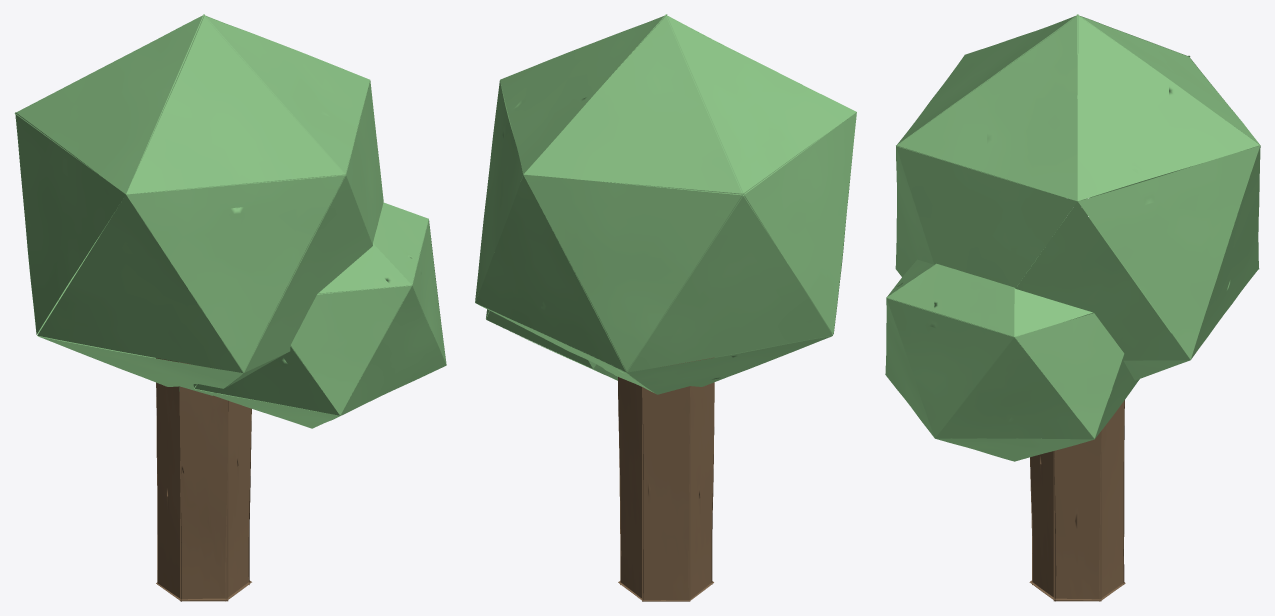
The model's file is oak.glb.
3 renders of one model, left to right at view 1: azimuth 30°, elevation 25°; view 2: azimuth 150°, elevation 25°; view 3: azimuth 270°, elevation 25°, orthographic.
Parts seen in each view (by area): view 1: OakTrunk; view 2: OakTrunk; view 3: OakTrunk.
Part boxes in pixels (x1=…): OakTrunk: x1=14, y1=14, x2=446, y2=601; OakTrunk: x1=475, y1=14, x2=856, y2=601; OakTrunk: x1=885, y1=14, x2=1260, y2=601.
Bounding box in the file's own units: 1.12 × 1.7 × 1.01.
